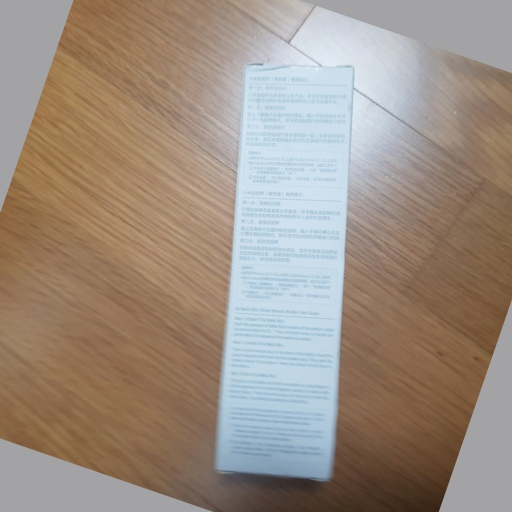Paper_0: (205, 52, 359, 484)
